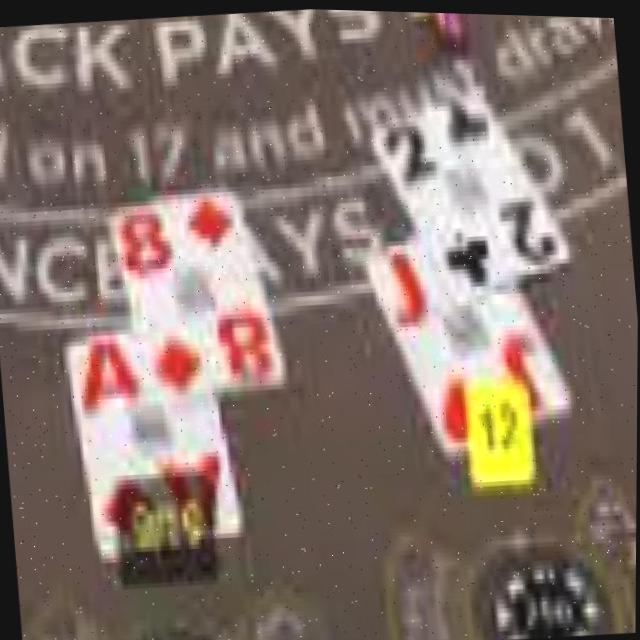Card-2: (372, 84, 571, 298)
Card-8: (112, 183, 289, 396)
Card-A: (68, 332, 244, 562)
Card-J: (367, 235, 575, 454)
